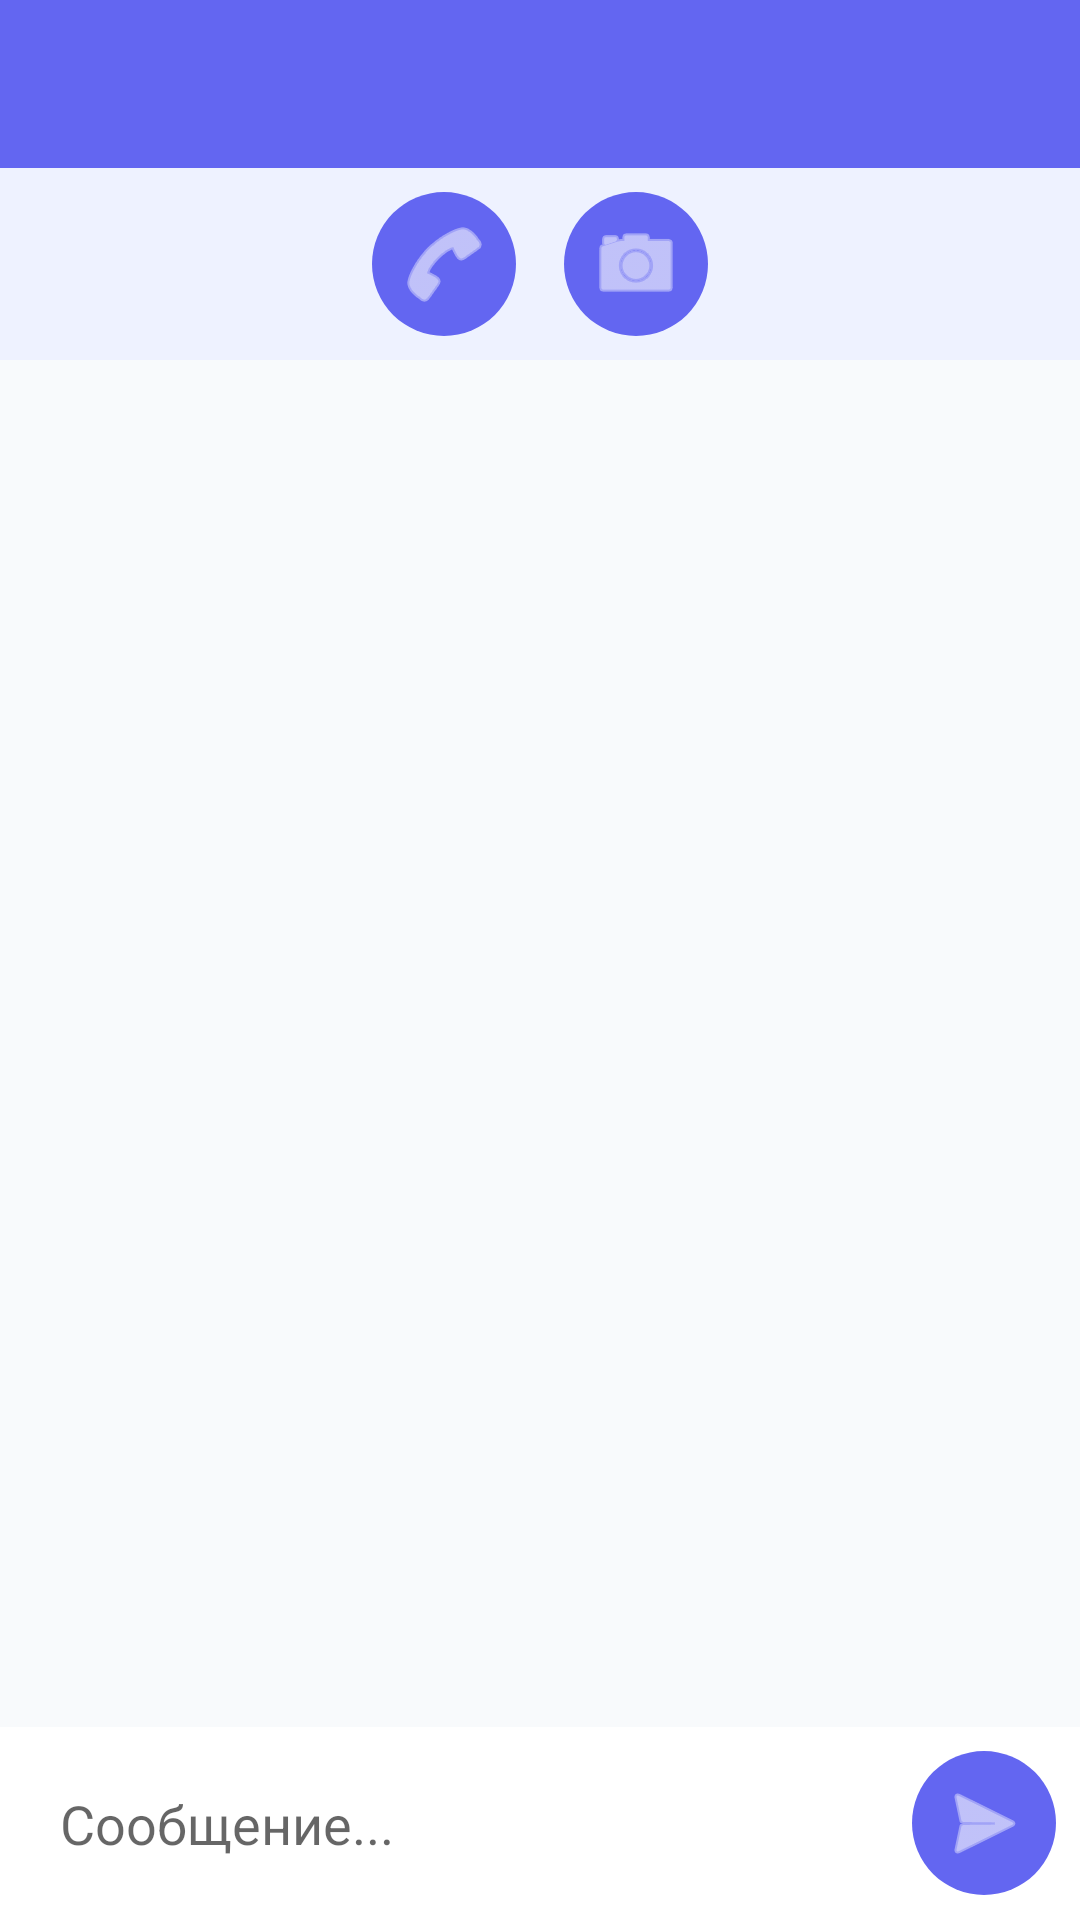

Screen size 1080 × 1920. Icon name, then its box in pixels as (x1, y1, x2, y2):
call: (372, 192, 516, 336)
camera: (564, 192, 708, 336)
send: (912, 1751, 1056, 1895)
